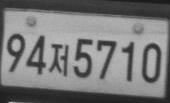0: (142, 41, 161, 83)
1: (120, 41, 140, 82)
4: (25, 34, 47, 75)
5: (71, 38, 96, 78)
7: (96, 39, 117, 79)
9: (4, 31, 26, 72)
저: (48, 43, 68, 77)
